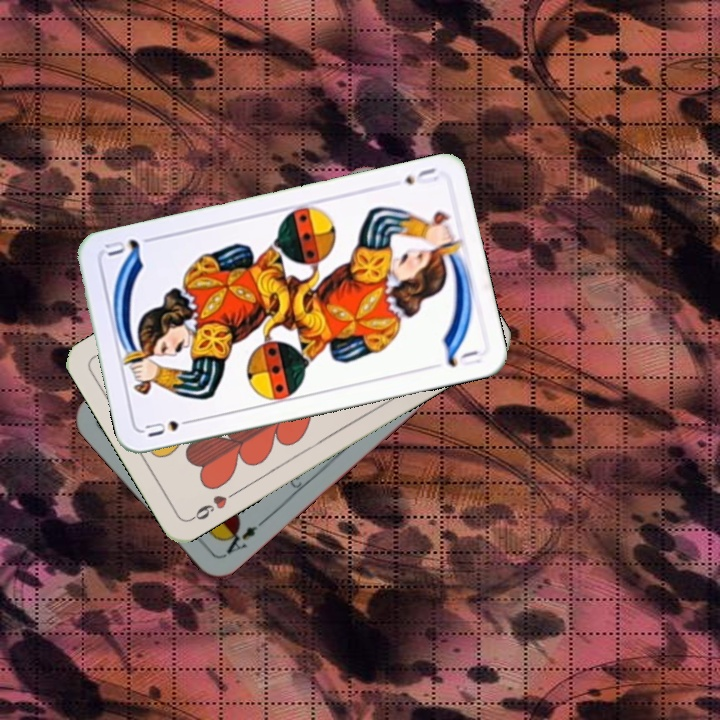EA: (216, 515, 268, 559)
H9: (185, 487, 239, 524)
SU: (140, 414, 199, 440), (400, 163, 441, 187)
